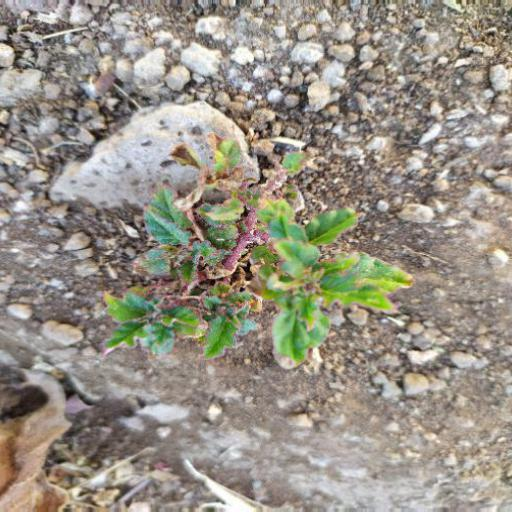weed: (112, 143, 412, 377)
